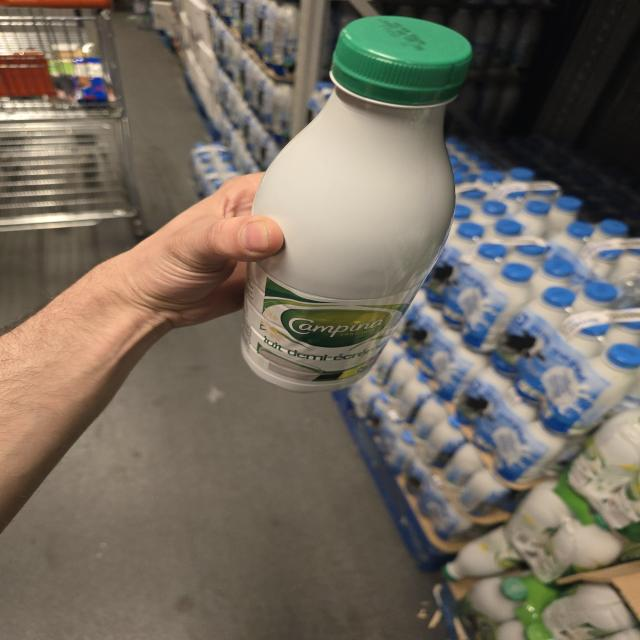Milk: (241, 16, 472, 391)
